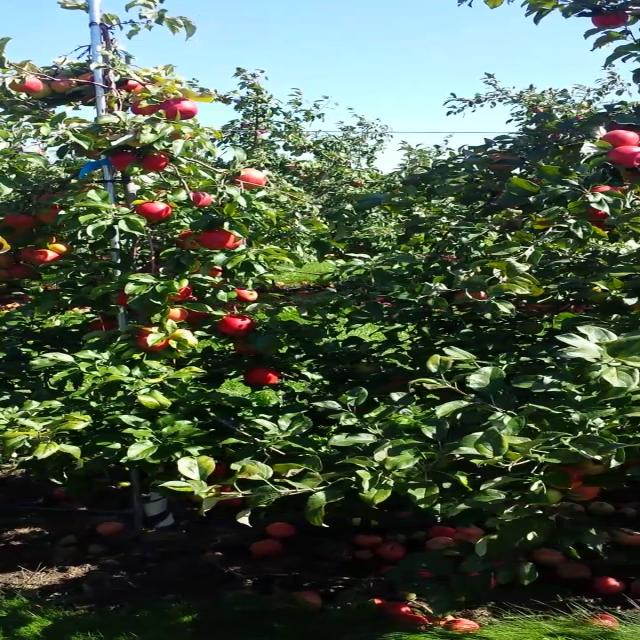apple: (541, 458, 584, 492), (7, 74, 52, 100), (589, 5, 634, 29), (575, 448, 612, 476), (130, 200, 174, 223), (218, 312, 258, 336), (191, 228, 234, 250), (242, 366, 284, 388), (159, 98, 199, 120), (228, 168, 268, 190), (29, 202, 65, 226), (596, 130, 638, 150), (2, 210, 44, 230), (46, 74, 84, 96), (604, 146, 638, 170), (102, 148, 139, 170), (135, 333, 173, 353), (581, 200, 615, 222), (137, 147, 168, 171), (454, 290, 494, 308), (112, 69, 143, 91), (130, 96, 164, 116), (212, 484, 242, 506), (230, 338, 262, 358), (156, 305, 190, 323), (185, 188, 216, 207), (32, 249, 63, 268), (588, 181, 628, 195), (166, 282, 194, 302), (227, 286, 257, 304), (182, 307, 212, 325), (565, 486, 600, 501), (110, 288, 135, 308), (177, 230, 202, 250), (8, 263, 40, 278), (87, 316, 117, 332), (130, 81, 162, 95), (198, 265, 227, 280), (48, 241, 75, 257), (206, 461, 227, 481), (606, 119, 636, 131), (14, 246, 34, 263), (545, 488, 563, 506), (138, 322, 164, 334), (1, 251, 18, 269), (167, 132, 195, 141), (1, 268, 18, 282), (231, 234, 245, 250), (79, 70, 94, 84), (622, 170, 636, 185), (83, 149, 101, 159), (127, 139, 147, 147), (172, 329, 193, 335), (48, 234, 60, 242)
